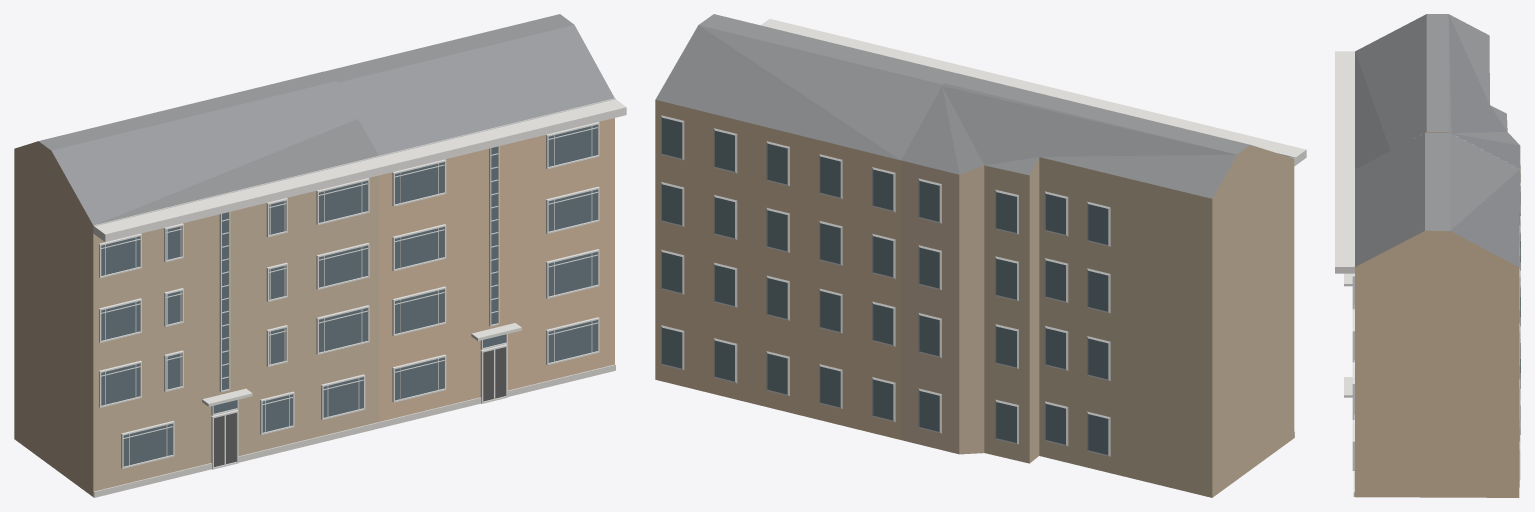
The model's file is chunk-face-polanen-184-250-r1.glb.
The picture shows the model from 3 angles, left to right: view 1: azimuth 30°, elevation 25°; view 2: azimuth 150°, elevation 25°; view 3: azimuth 270°, elevation 25°; orthographic projection. The views are drawn at different scales.
Visible parts, largest first — view 1: face-polanen-184-250-r1; view 2: face-polanen-184-250-r1; view 3: face-polanen-184-250-r1.
Part boxes in pixels (x1=…): face-polanen-184-250-r1: x1=14, y1=14, x2=626, y2=497; face-polanen-184-250-r1: x1=655, y1=14, x2=1306, y2=497; face-polanen-184-250-r1: x1=1335, y1=14, x2=1520, y2=497.
Bounding box in the file's own units: 28.09 × 16.19 × 10.19.
